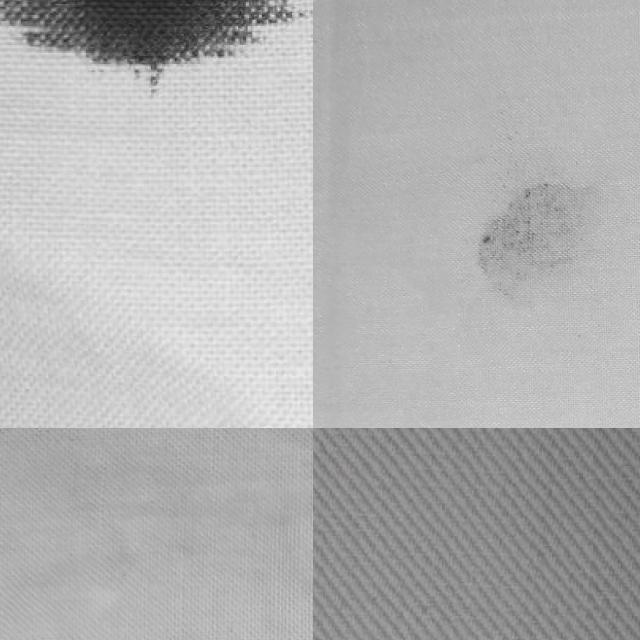Thread_other: (463, 164, 626, 326)
